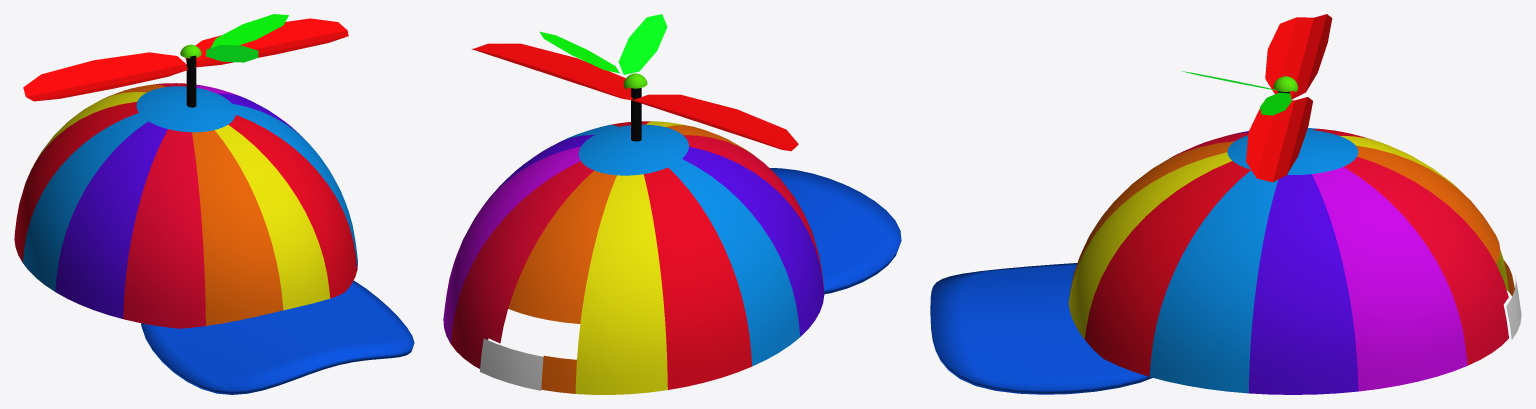
The model's file is Propeller Hat.fbx.
3 views of the same model, side by side, from view 1: azimuth 30°, elevation 25°; view 2: azimuth 150°, elevation 25°; view 3: azimuth 270°, elevation 25° (orthographic). The views are drawn at different scales.
Parts seen in each view (by area): view 1: Cap_base, Plane, wing2.001, wing2, wing3, wing4, Cylinder; view 2: Cap_base, Plane, wing2.001, wing2, Velcro, wing4, wing3, Cylinder; view 3: Cap_base, Plane, wing2, wing2.001, wing3, Velcro.
Boxes of the visible parts, x1=… form: Cap_base: x1=14, y1=83, x2=357, y2=328; Plane: x1=141, y1=280, x2=414, y2=394; wing2.001: x1=23, y1=52, x2=187, y2=101; wing2: x1=185, y1=18, x2=348, y2=67; wing3: x1=210, y1=14, x2=288, y2=47; wing4: x1=206, y1=45, x2=258, y2=62; Cylinder: x1=186, y1=55, x2=196, y2=107; Cap_base: x1=443, y1=121, x2=824, y2=394; Plane: x1=770, y1=168, x2=901, y2=294; wing2.001: x1=632, y1=94, x2=798, y2=151; wing2: x1=471, y1=43, x2=633, y2=100; Velcro: x1=480, y1=338, x2=543, y2=390; wing4: x1=618, y1=14, x2=667, y2=74; wing3: x1=539, y1=31, x2=619, y2=73; Cylinder: x1=631, y1=88, x2=641, y2=141; Cap_base: x1=1068, y1=128, x2=1514, y2=394; Plane: x1=930, y1=263, x2=1152, y2=394; wing2: x1=1246, y1=97, x2=1312, y2=182; wing2.001: x1=1265, y1=14, x2=1332, y2=99; wing3: x1=1260, y1=92, x2=1291, y2=115; Velcro: x1=1506, y1=276, x2=1521, y2=339.
Size of the model in its own units: 214 by 163 by 312.
